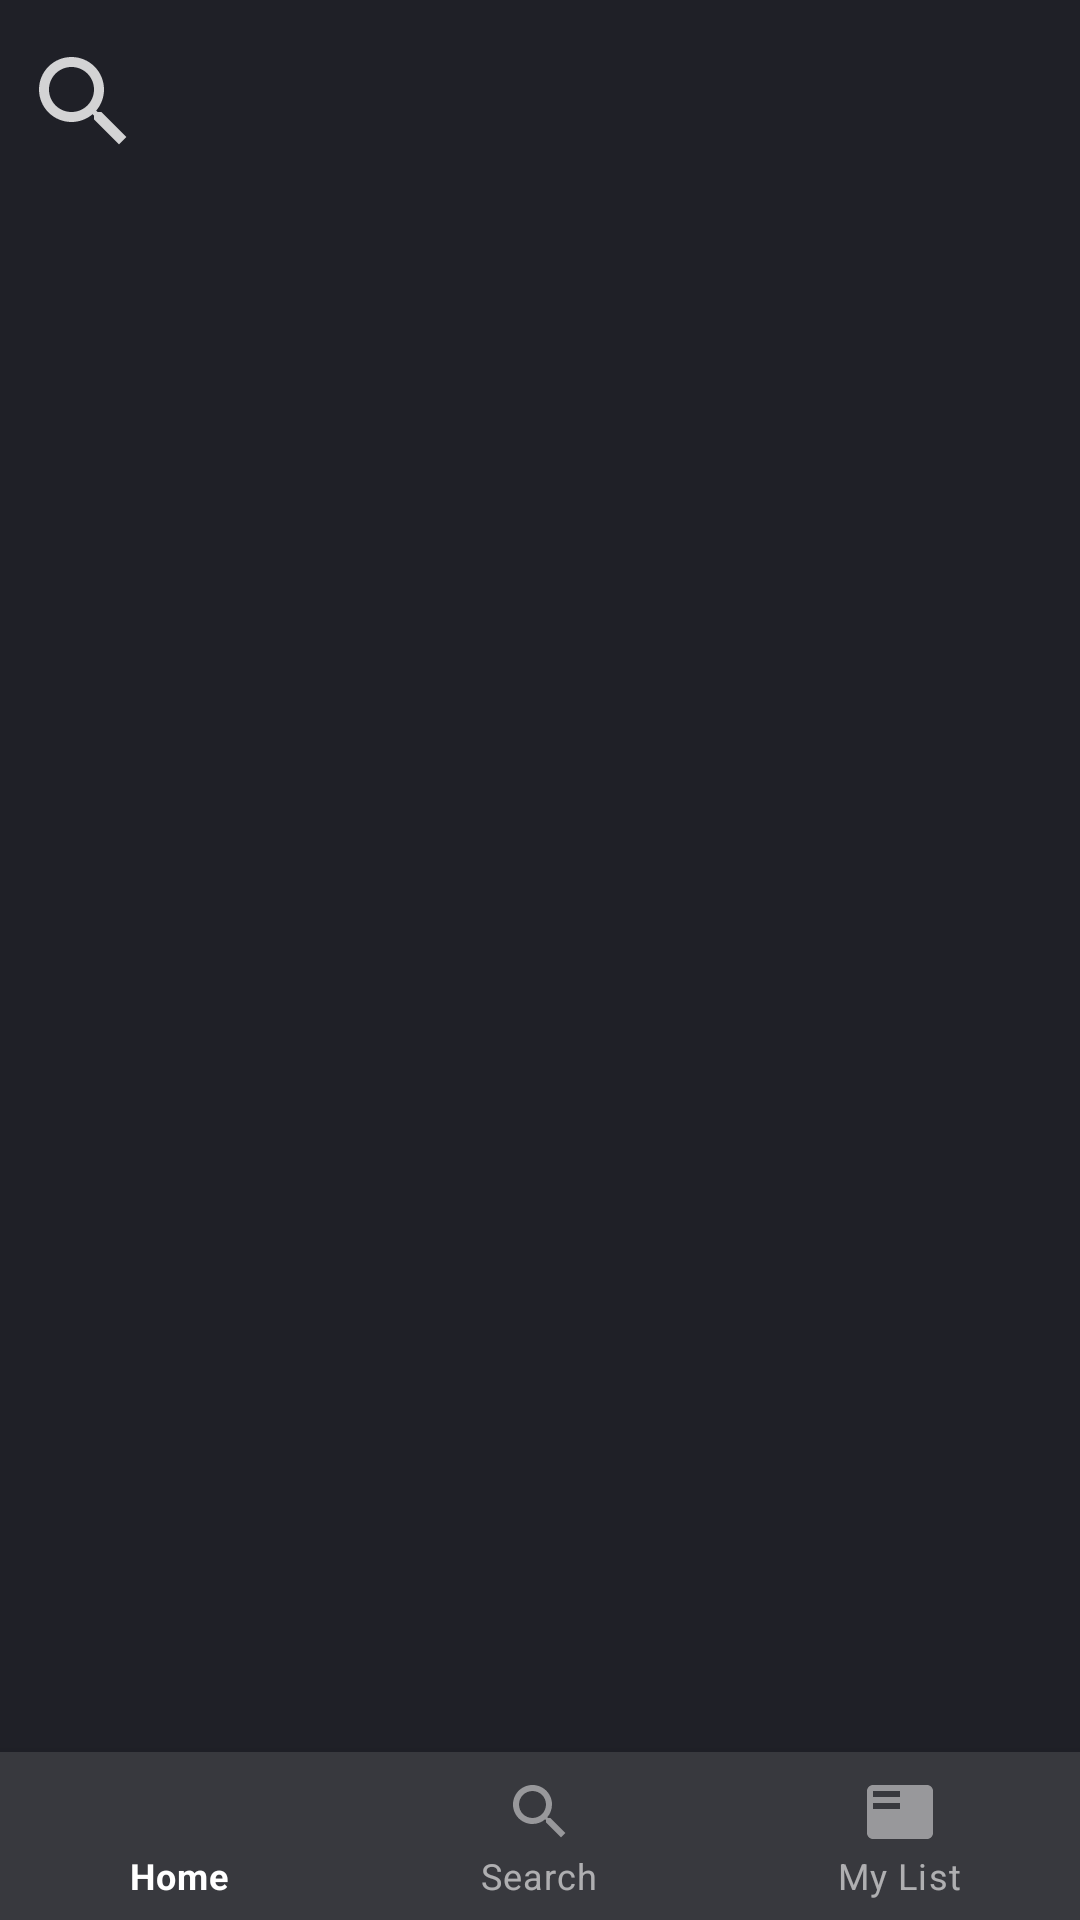

Icon bounding boxes for this 1080x1920 phone screenshot, format (x1, y1, x2, y2):
search: (39, 57, 126, 144)
